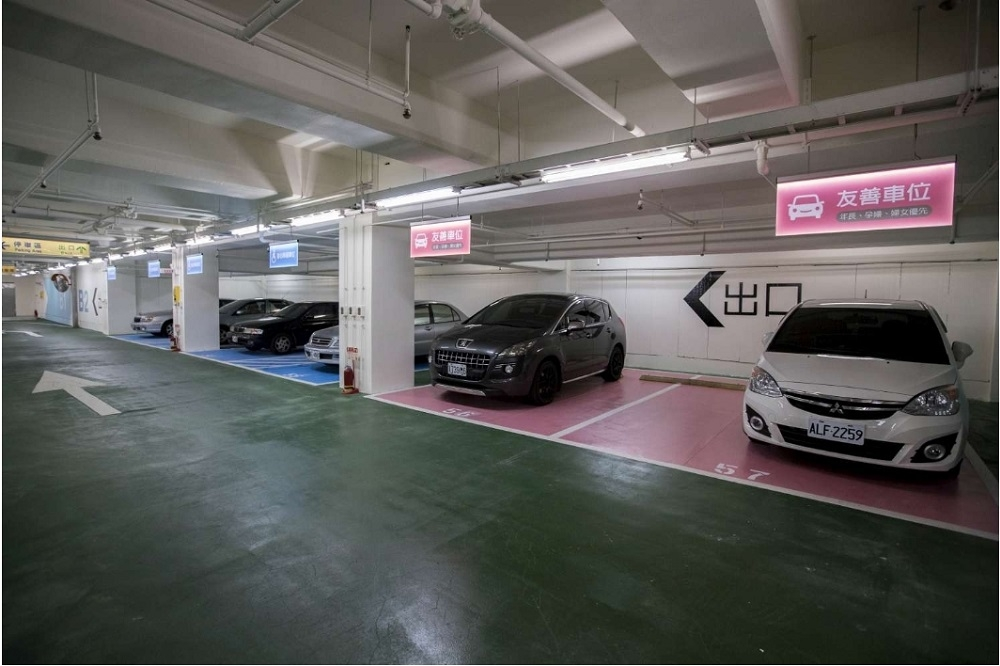car: (740, 295, 980, 493), (427, 289, 639, 409), (227, 301, 338, 353), (415, 287, 455, 365), (129, 296, 174, 337), (303, 316, 336, 371), (219, 293, 263, 329)
